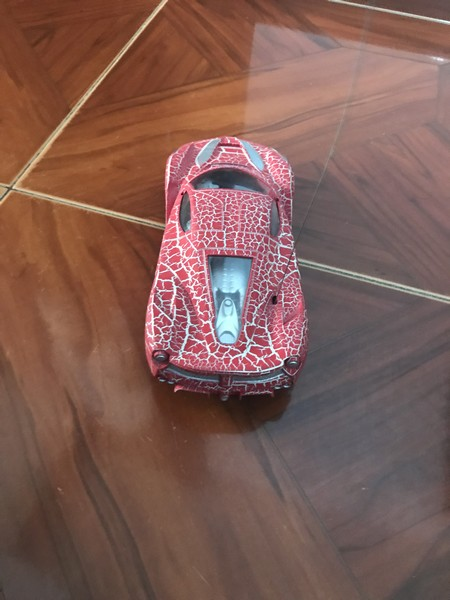RC: (141, 128, 312, 402)
